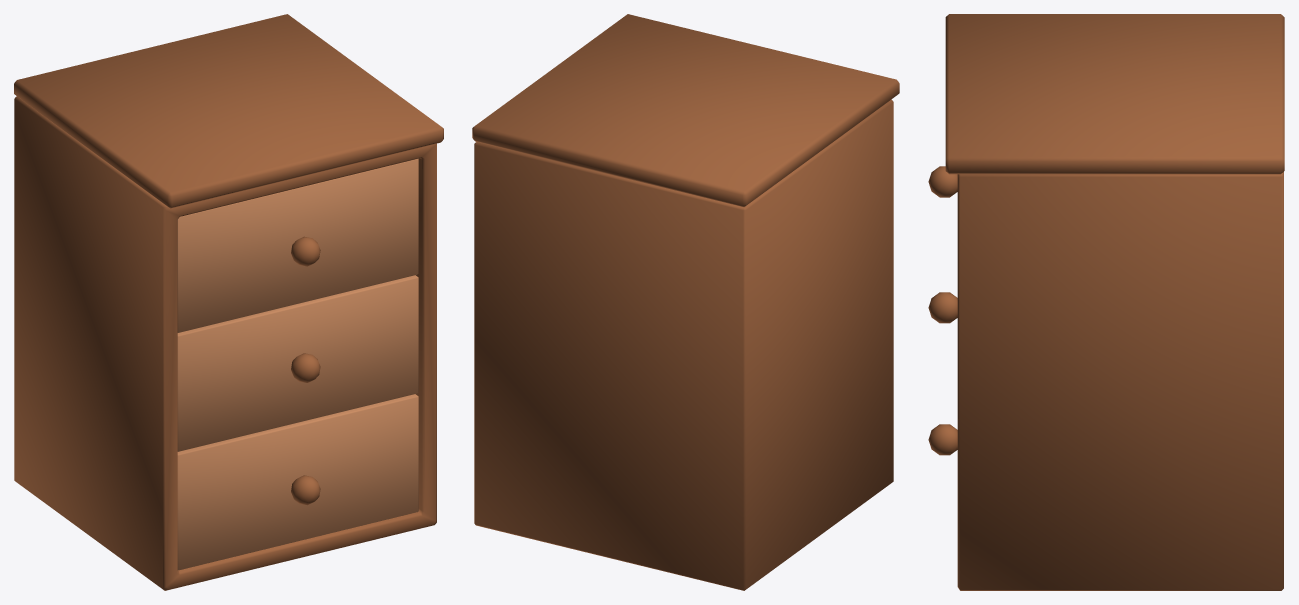
3 renders of one model, left to right at view 1: azimuth 30°, elevation 25°; view 2: azimuth 150°, elevation 25°; view 3: azimuth 270°, elevation 25°, orthographic. The views are drawn at different scales.
Visible parts, largest first — view 1: Drawer B, Drawer B.002, Drawer B.003, Drawer B.001; view 2: Drawer B; view 3: Drawer B, Drawer B.003, Drawer B.002, Drawer B.001.
Boxes of the visible parts, x1=… form: Drawer B: x1=14, y1=14, x2=443, y2=590; Drawer B.002: x1=177, y1=275, x2=418, y2=451; Drawer B.003: x1=177, y1=394, x2=418, y2=570; Drawer B.001: x1=177, y1=158, x2=418, y2=332; Drawer B: x1=472, y1=14, x2=899, y2=590; Drawer B: x1=945, y1=14, x2=1284, y2=590; Drawer B.003: x1=928, y1=424, x2=957, y2=455; Drawer B.002: x1=928, y1=292, x2=957, y2=323; Drawer B.001: x1=928, y1=166, x2=957, y2=197.
Bounding box in the file's own units: 2.54 × 3.53 × 2.62.
